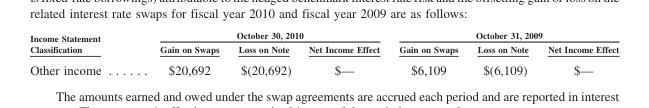table: (29, 29, 618, 76)
table column: (29, 29, 130, 76), (130, 29, 228, 76), (299, 29, 388, 76), (537, 29, 618, 76), (388, 29, 467, 76), (228, 29, 299, 76), (467, 29, 537, 76)
table column header: (29, 29, 618, 57)
table row: (29, 57, 618, 76), (29, 41, 618, 57), (29, 29, 618, 41)
table spanning cell: (130, 29, 388, 41), (29, 29, 130, 57), (388, 29, 618, 41)
